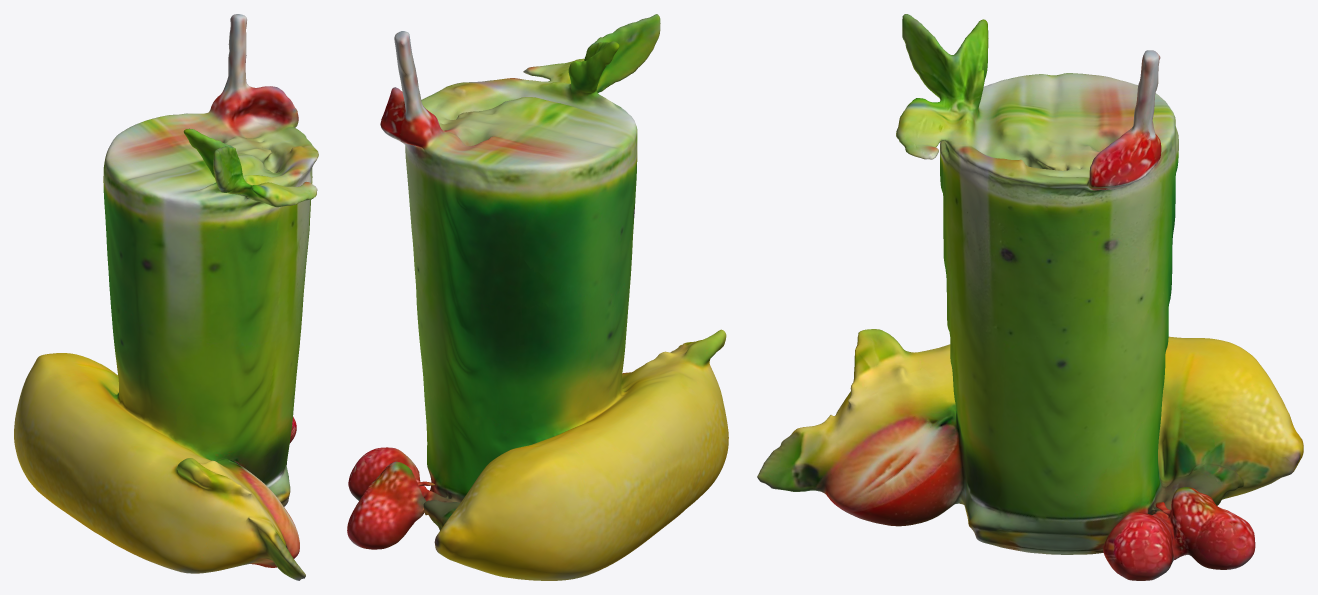
Rendered from smoothie.glb.
The picture shows the model from 3 angles, left to right: view 1: azimuth 30°, elevation 25°; view 2: azimuth 150°, elevation 25°; view 3: azimuth 270°, elevation 25°; orthographic projection. The views are drawn at different scales.
Parts seen in each view (by area): view 1: tripo_node_80d86a0e-5215-4c6a-ae0a-a950fb03b526; view 2: tripo_node_80d86a0e-5215-4c6a-ae0a-a950fb03b526; view 3: tripo_node_80d86a0e-5215-4c6a-ae0a-a950fb03b526.
Part boxes in pixels (bbox=[...]): tripo_node_80d86a0e-5215-4c6a-ae0a-a950fb03b526: bbox=[14, 14, 318, 580]; tripo_node_80d86a0e-5215-4c6a-ae0a-a950fb03b526: bbox=[347, 14, 728, 580]; tripo_node_80d86a0e-5215-4c6a-ae0a-a950fb03b526: bbox=[757, 14, 1303, 580].
Bounding box in the file's own units: 0.4392 × 0.7194 × 0.6806.
Materials: 1 (1 with a texture image).
